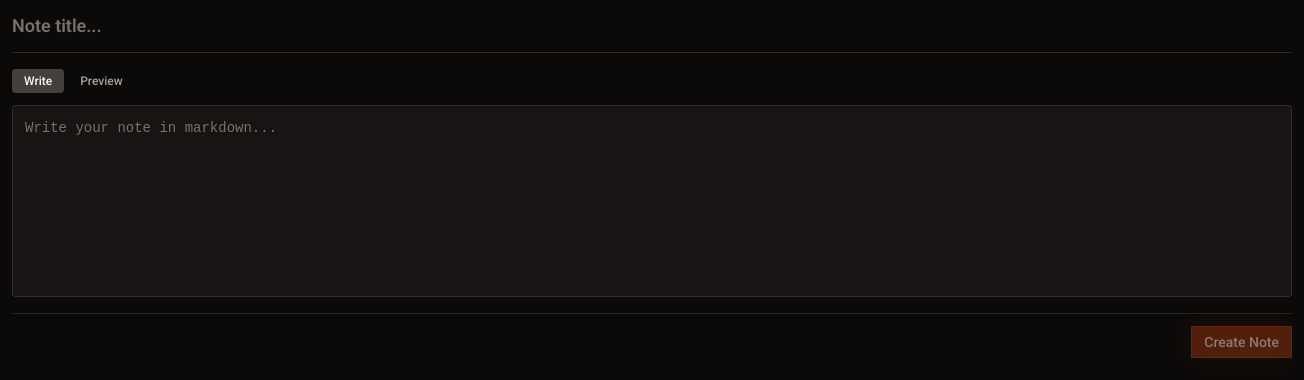
Test: NoteEditor › create mode › enables the save button once a title is entered
In the field with placeholder "Note title...": (652, 32) [12, 12, 1292, 53], type "My Note"
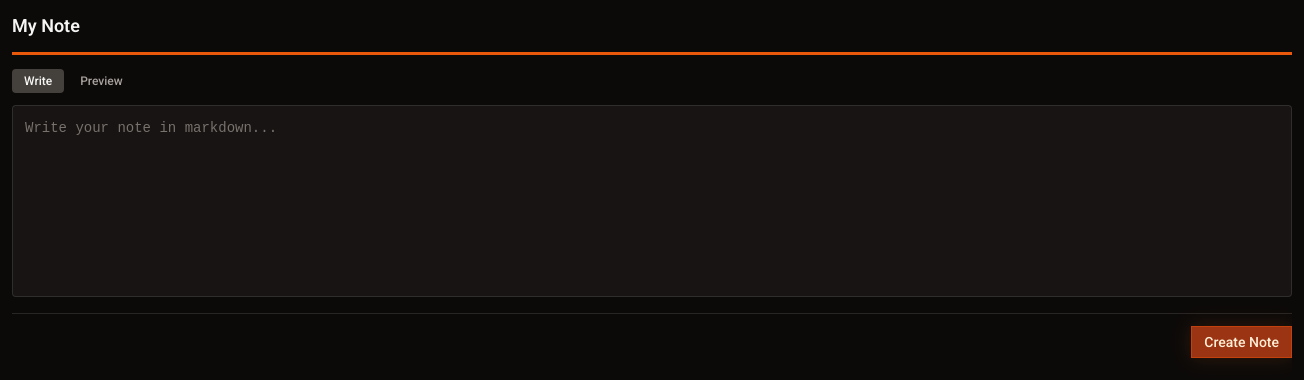
Check: the button "Create Note" is enabled, box [1191, 326, 1292, 358]
